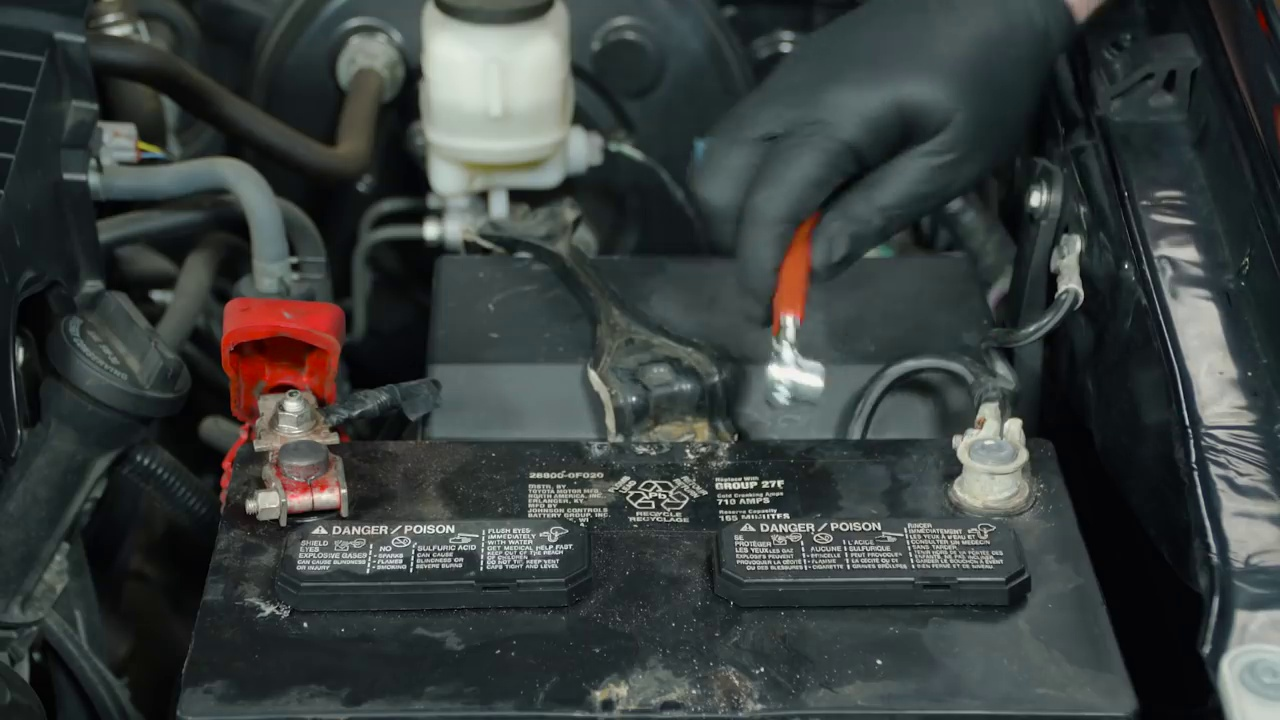battery: (200, 274, 1128, 708)
neg_connected: (942, 359, 1053, 526)
pos_connected: (210, 281, 368, 546)
